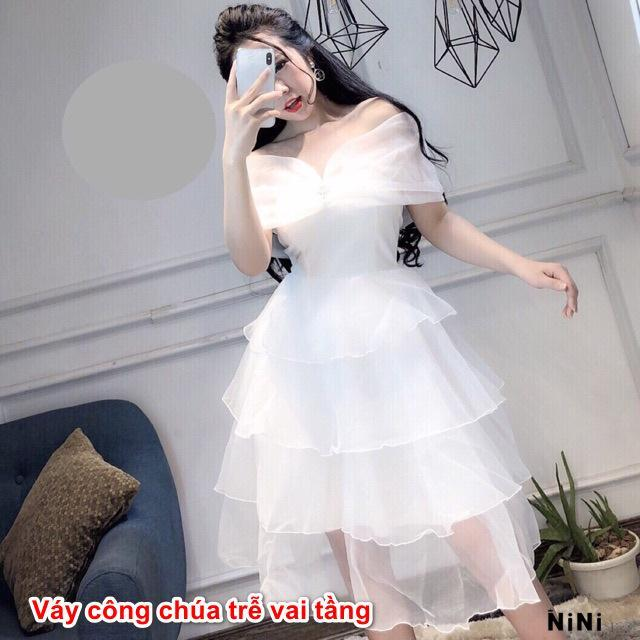clothes: (215, 100, 546, 624)
